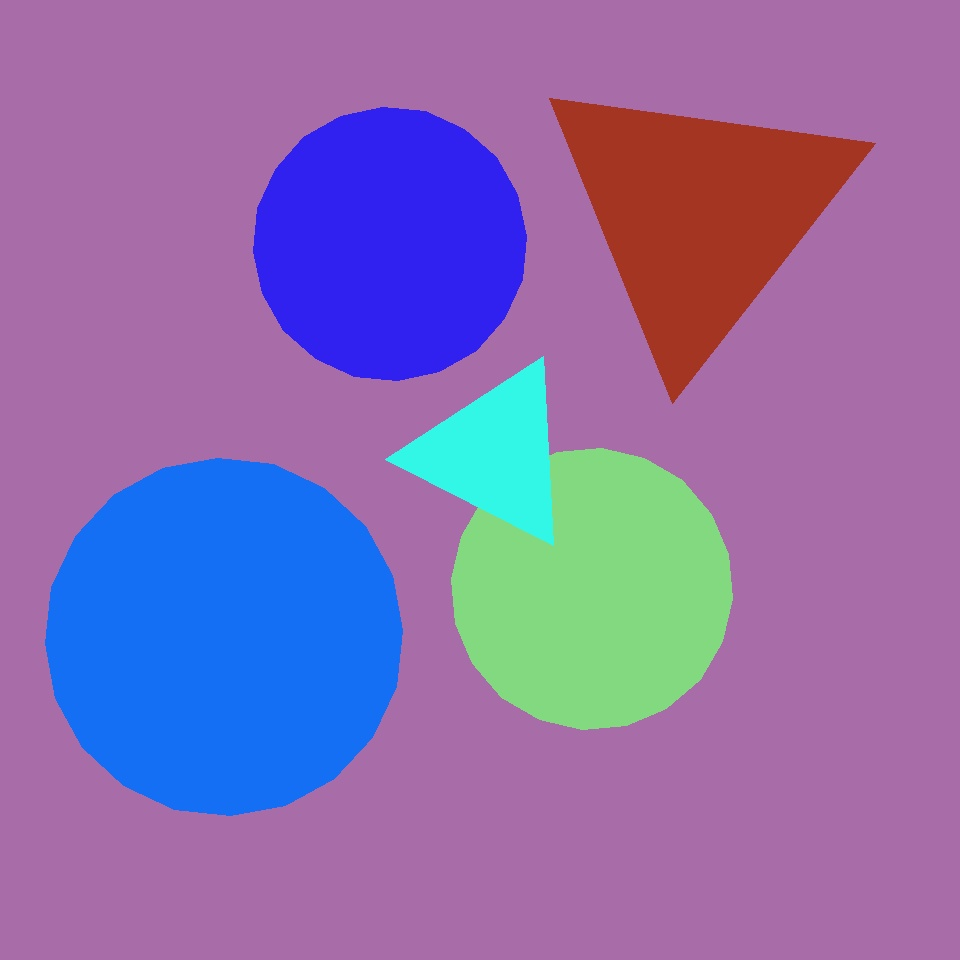circle: (536, 63, 862, 368), (410, 360, 578, 548)
square: (1, 802, 95, 896)
triangle: (46, 459, 403, 816), (452, 448, 732, 730), (253, 107, 526, 380), (706, 594, 880, 769)
